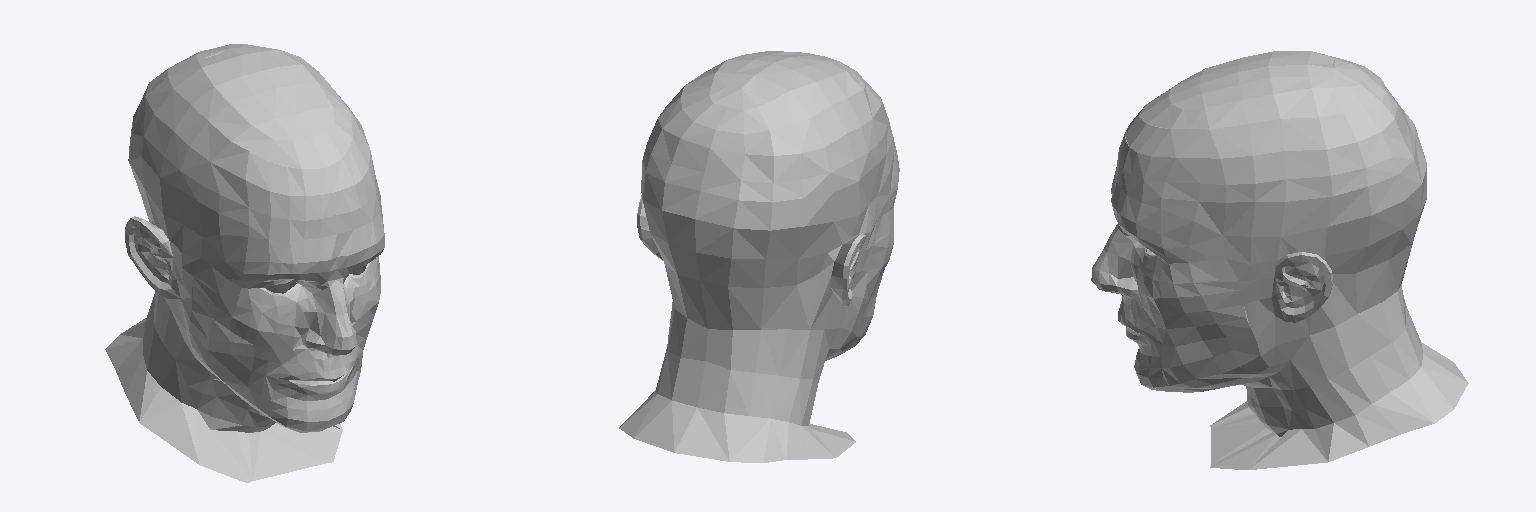
The model's file is jaffa_head2.obj.
3 views of the same model, side by side, from view 1: azimuth 30°, elevation 25°; view 2: azimuth 150°, elevation 25°; view 3: azimuth 270°, elevation 25° (orthographic).
Parts seen in each view (by area): view 1: Soldier.jaffa_ref.smd.mesh_6; view 2: Soldier.jaffa_ref.smd.mesh_6; view 3: Soldier.jaffa_ref.smd.mesh_6.
Boxes of the visible parts, x1,y1,x2,y2 form: Soldier.jaffa_ref.smd.mesh_6: [105, 44, 384, 482]; Soldier.jaffa_ref.smd.mesh_6: [619, 51, 899, 462]; Soldier.jaffa_ref.smd.mesh_6: [1091, 51, 1468, 469].
Bounding box in the file's own units: 7.34 × 12.49 × 11.18.